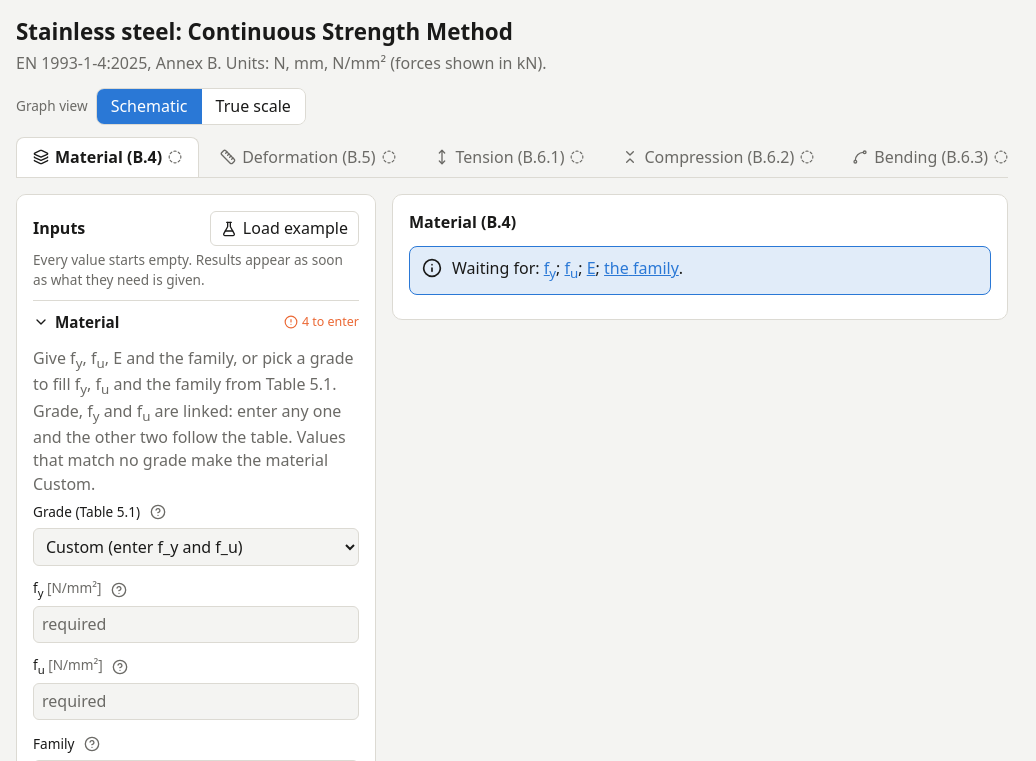
Test: the Compression tab › waits for the material, the section type, the B.5 inputs, A and γM0, as links into the dock
Click the tab "Compression (B.6.2)" at point(718, 157), box [606,137,831,177]
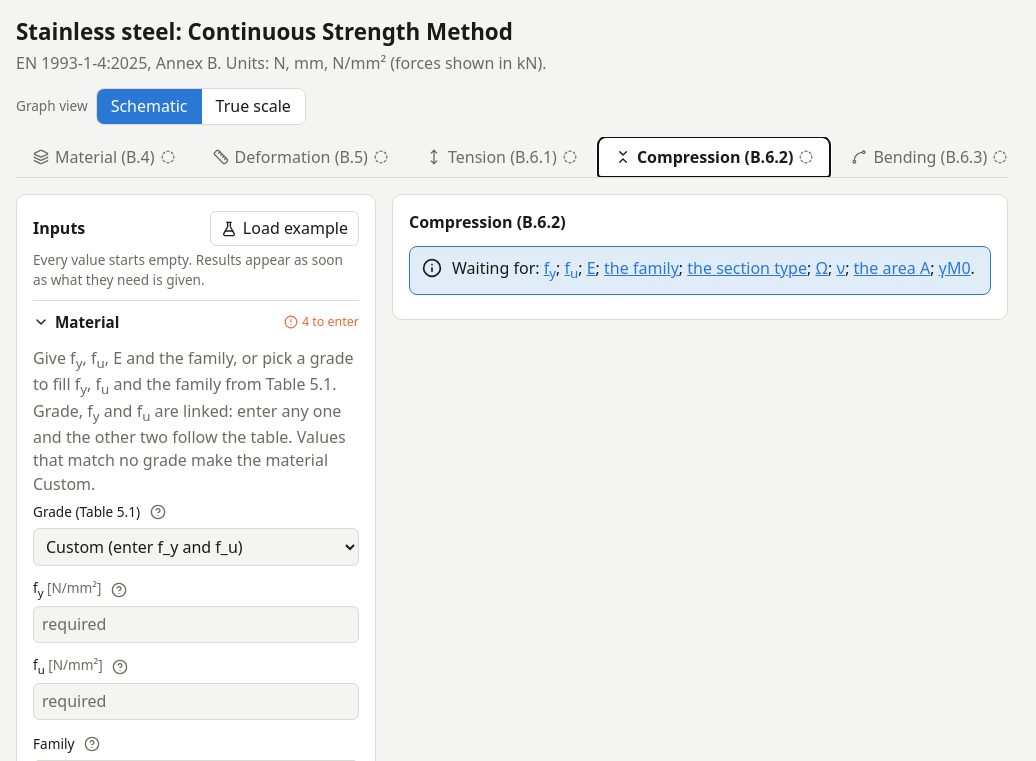
expect the message shows "the section type": met, box [409,246,991,295]
expect the message shows "Ω": met, box [815,257,828,280]
expect the message shows "ν": met, box [836,257,845,280]
Click the button "γM0" at point(955, 269), box [939,257,971,280]
(page scrolled)
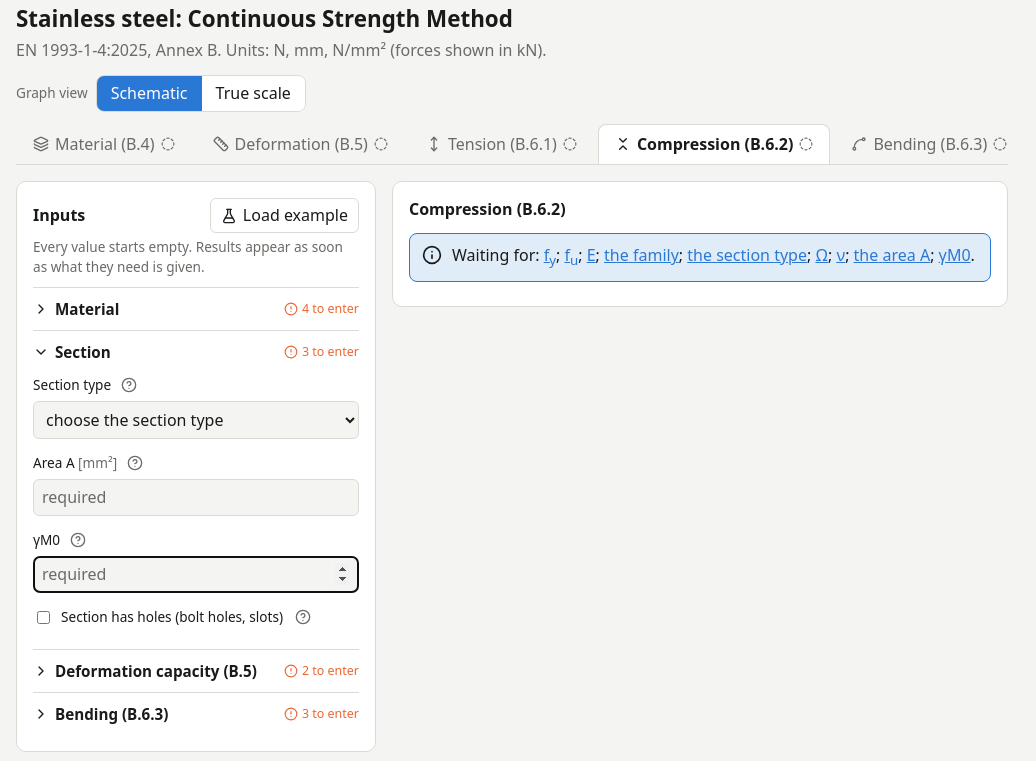
expect the button "Section 3 to enter" is expanded: met, box [33,331,359,373]
